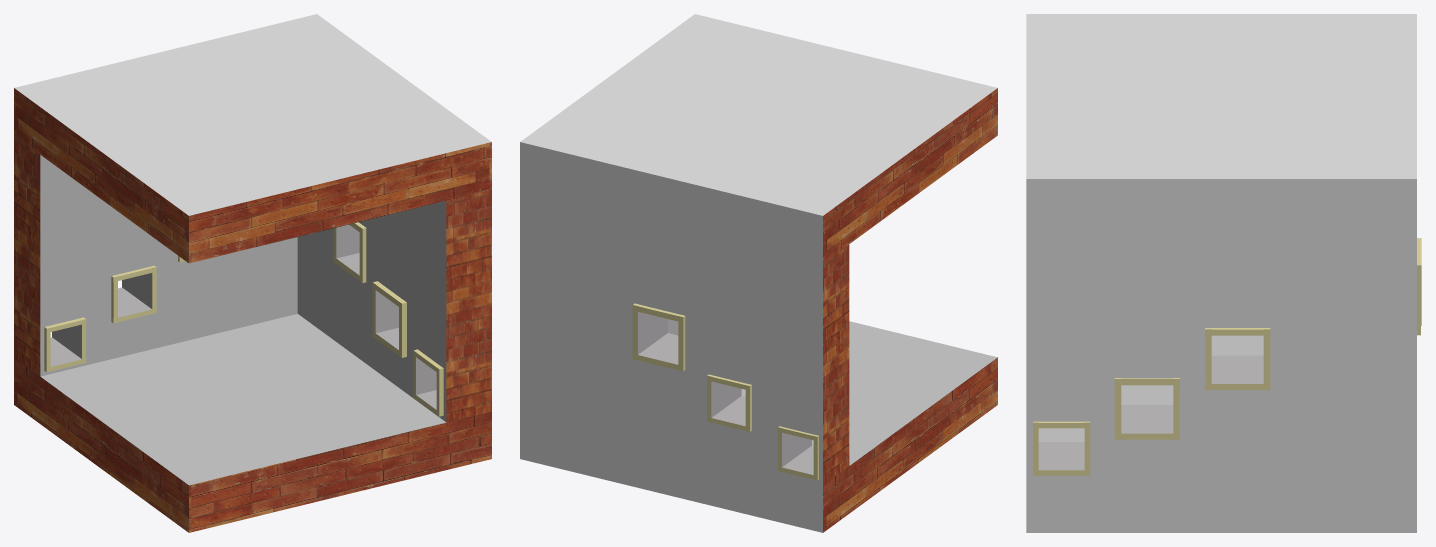
Rendered from AnamorphicFrame03_1.fbx.
3 views of the same model, side by side, from view 1: azimuth 30°, elevation 25°; view 2: azimuth 150°, elevation 25°; view 3: azimuth 270°, elevation 25° (orthographic). The views are drawn at different scales.
Parts seen in each view (by area): view 1: Cube, Cube.005, Cube.002, Cube.006, Cube.003, Cube.001; view 2: Cube, Cube.004, Cube.005, Cube.006; view 3: Cube, Cube.003, Cube.002, Cube.001.
Part boxes in pixels (x1,y1,x2,y2): Cube: (14, 14, 491, 532); Cube.005: (111, 265, 156, 323); Cube.002: (372, 281, 406, 357); Cube.006: (44, 317, 86, 372); Cube.003: (333, 222, 366, 283); Cube.001: (413, 349, 443, 416); Cube: (520, 14, 997, 532); Cube.004: (632, 303, 685, 371); Cube.005: (707, 374, 751, 431); Cube.006: (778, 426, 818, 480); Cube: (1026, 14, 1416, 532); Cube.003: (1205, 328, 1270, 390); Cube.002: (1114, 378, 1179, 439); Cube.001: (1033, 421, 1090, 475).
Size of the model in its own units: 202 by 200 by 202.
